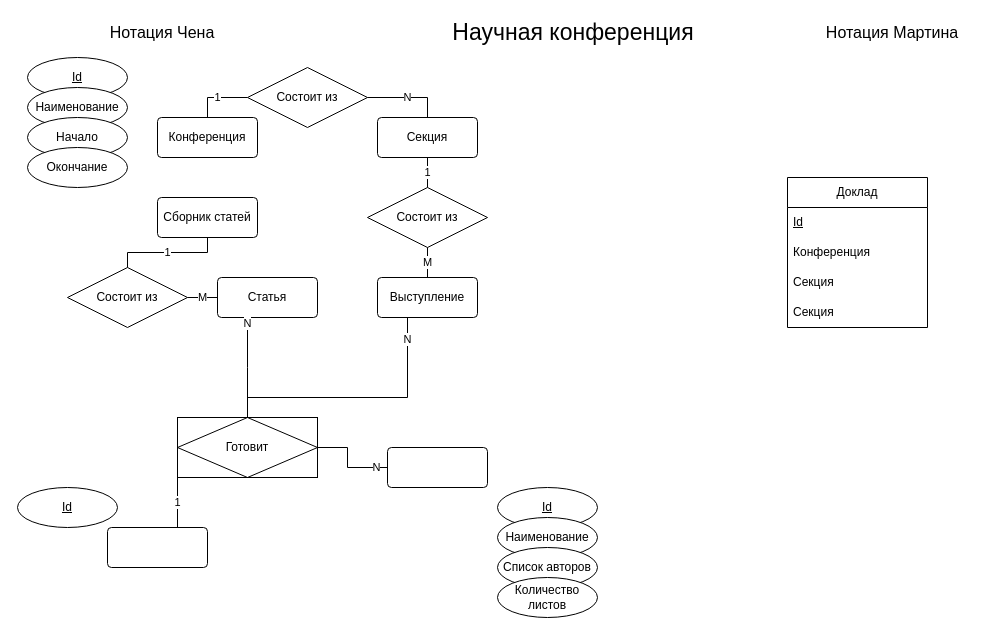
Some shapes in this 1005 by 635 pixel diagram are drawn without their labels. The shapes that lost their labels are listed below. From the top down, each one's centre as x and y in pixels, then its label:
At (x=437, y=467): "Презентация".
At (x=157, y=547): "Спикер".
